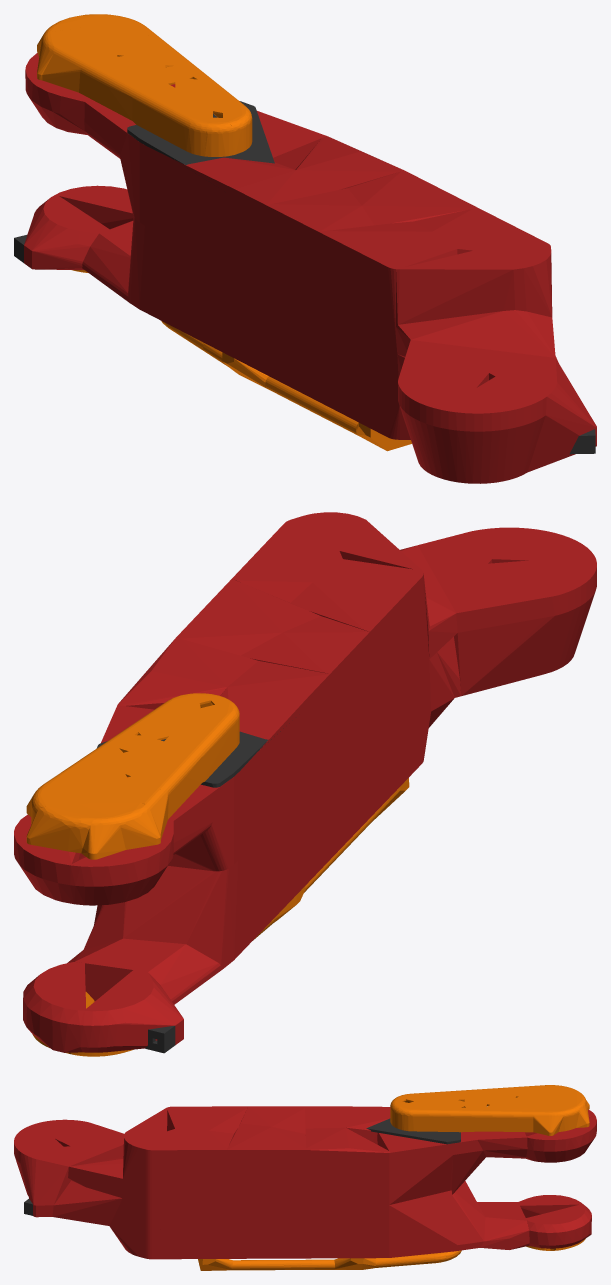
File: LLEG_LINK3_mesh.dae
3 views of the same model, one above another, from view 1: azimuth 30°, elevation 25°; view 2: azimuth 150°, elevation 25°; view 3: azimuth 270°, elevation 25° (orthographic). The views are drawn at different scales.
Parts seen in each view (by area): view 1: LLEG_LINK3 (×4); view 2: LLEG_LINK3 (×4); view 3: LLEG_LINK3 (×4).
Boxes of the visible parts, x1,y1,x2,y2 form: LLEG_LINK3 (×4): (24,14,596,483); LLEG_LINK3 (×4): (14,512,596,1052); LLEG_LINK3 (×4): (14,1085,596,1270).
Bounding box in the file's own units: 0.1228 × 0.1244 × 0.4565.
